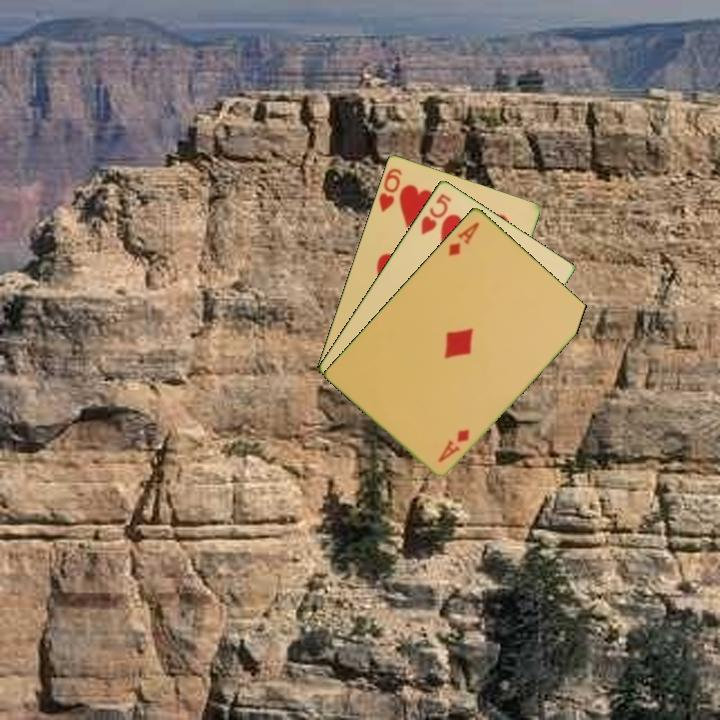5h: (417, 189, 454, 238)
6h: (375, 164, 405, 215)
Ad: (435, 425, 473, 465), (445, 218, 482, 258)
